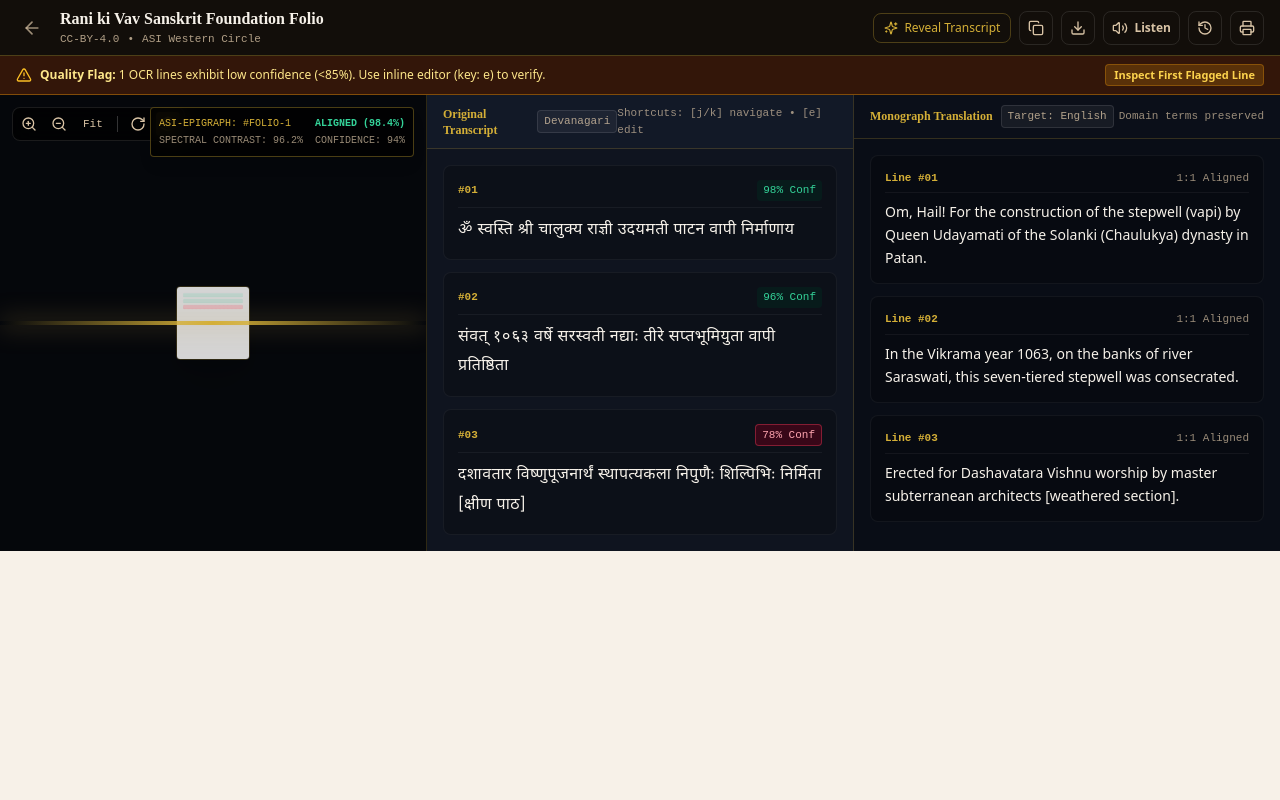
M3: DocumentViewer Interactive Component & Bidirectional Linking › highlights the corresponding transcript and translation line when clicked
The width and height of the screenshot is (1280, 800).
Click the text "ॐ स्वस्ति श्री चालुक्य राज्ञी उदयमती पाटन वापी निर्माणाय". click: {"x": 626, "y": 230}
box: top-left (458, 220), bottom-right (794, 240)
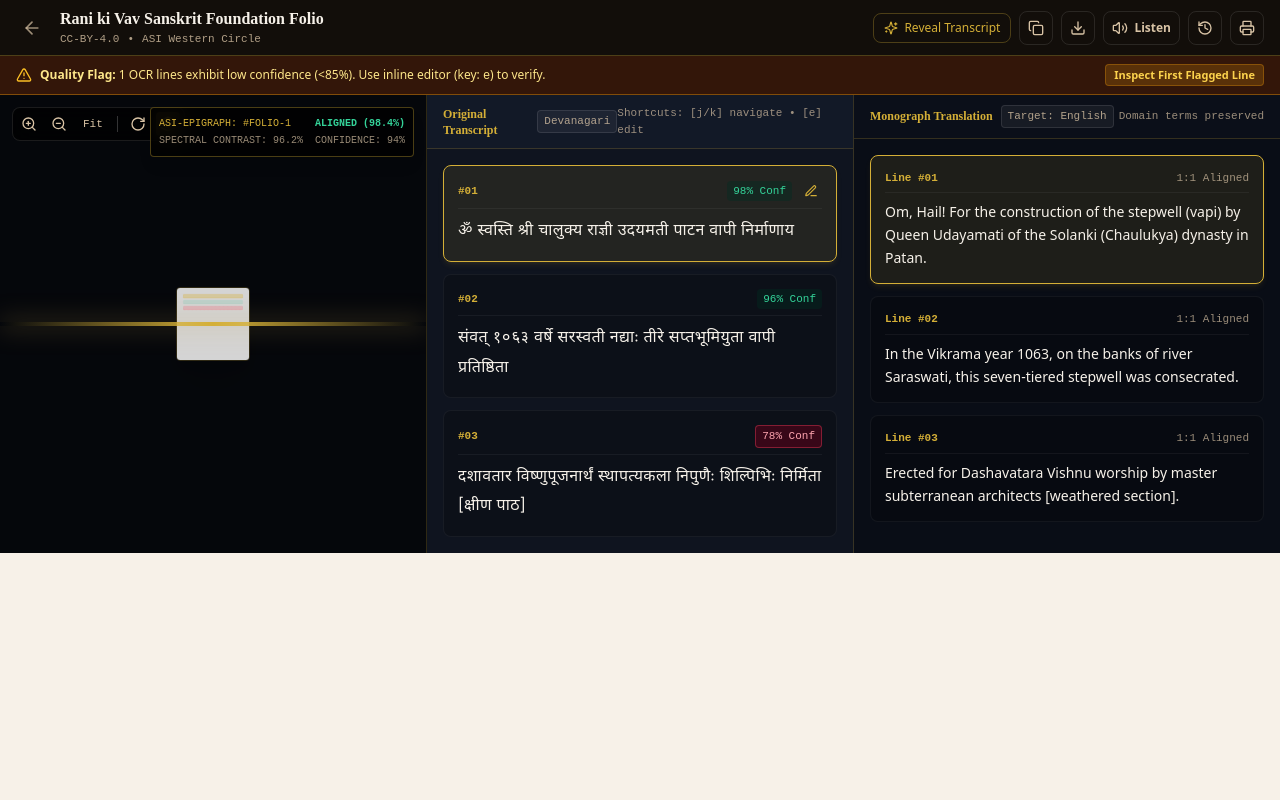
Now the button titled "Edit Line (Key: e)" is shown, box top-left (800, 180), bottom-right (822, 202)
